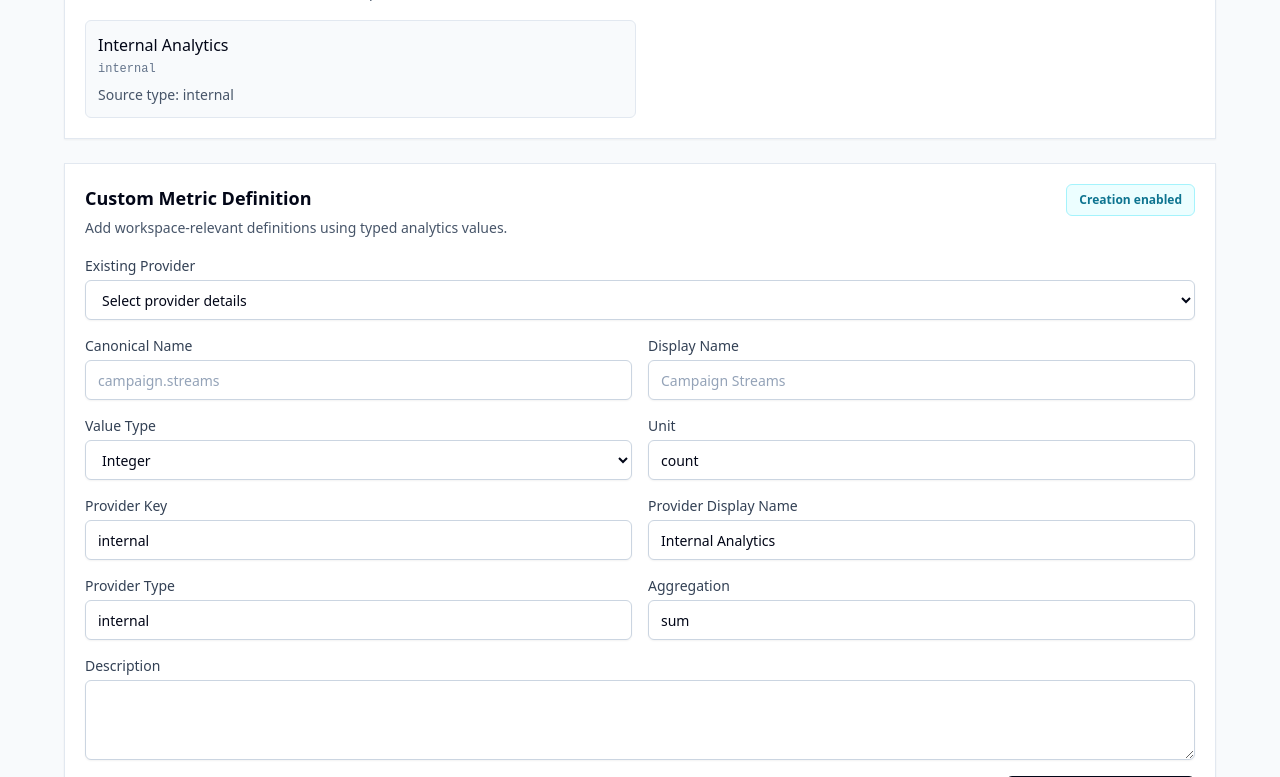
it: AnalyticsConfigurationPanel › validates canonical names before creating
The image size is (1280, 777).
(page scrolled)
Type "Campaign Saves" into the field labelled "Canonical Name".
click(358, 380); type("Campaign Saves")  # box [85,360,632,400]
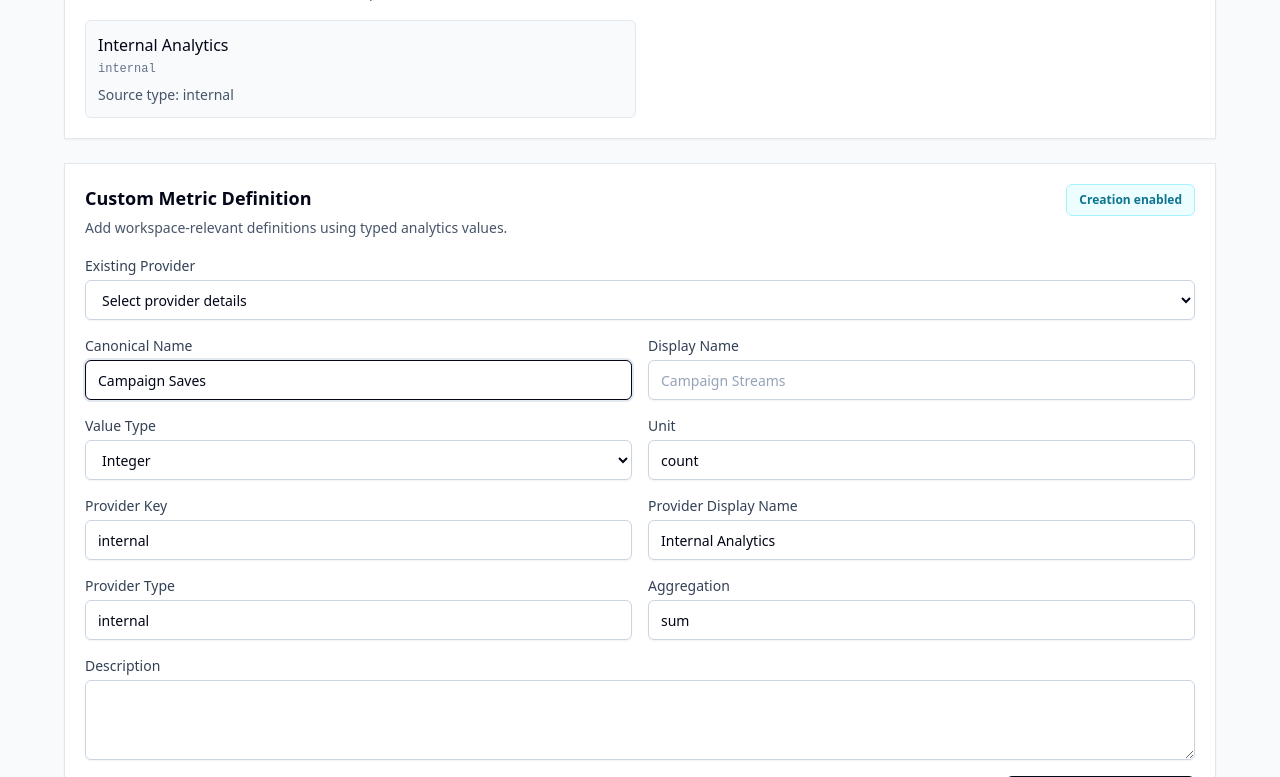
Type "Campaign Saves" into the field labelled "Display Name".
click(922, 380); type("Campaign Saves")  # box [648,360,1195,400]
(page scrolled)
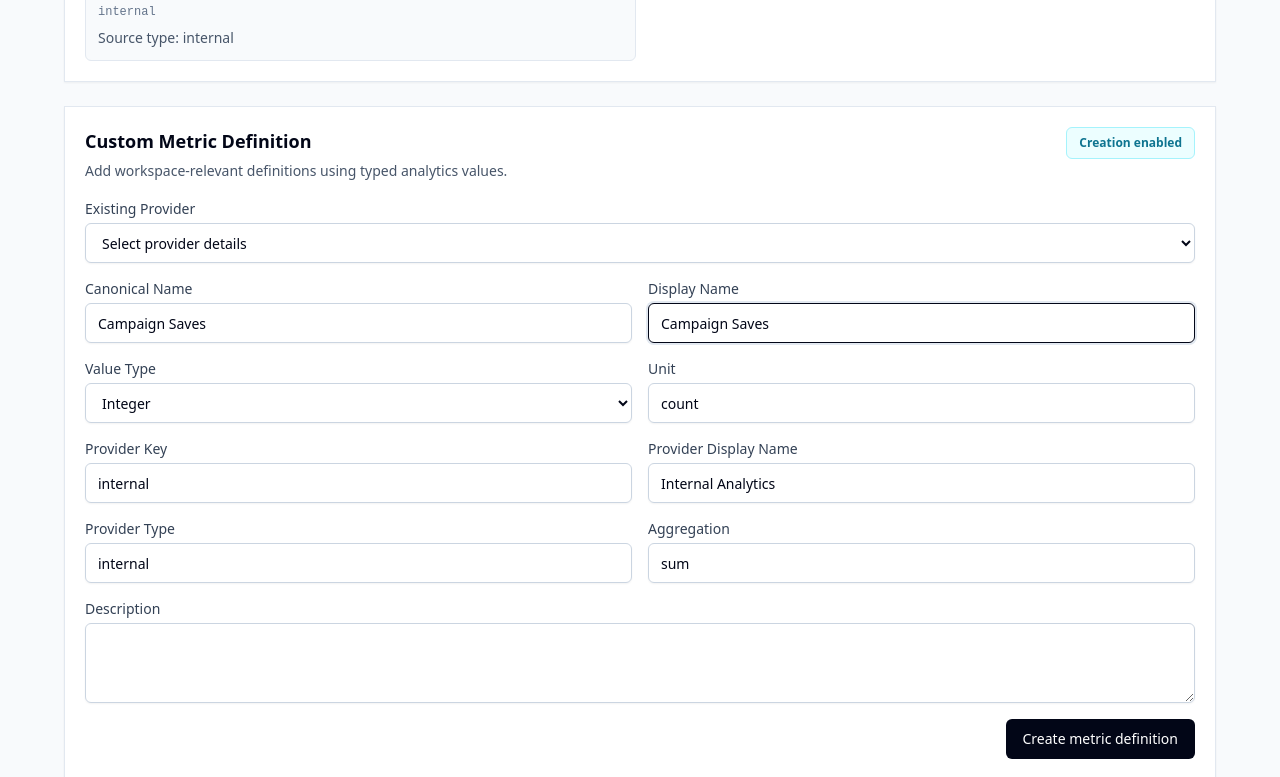
Click the button "Create metric definition".
click(1100, 739)  # box [1006,719,1195,759]
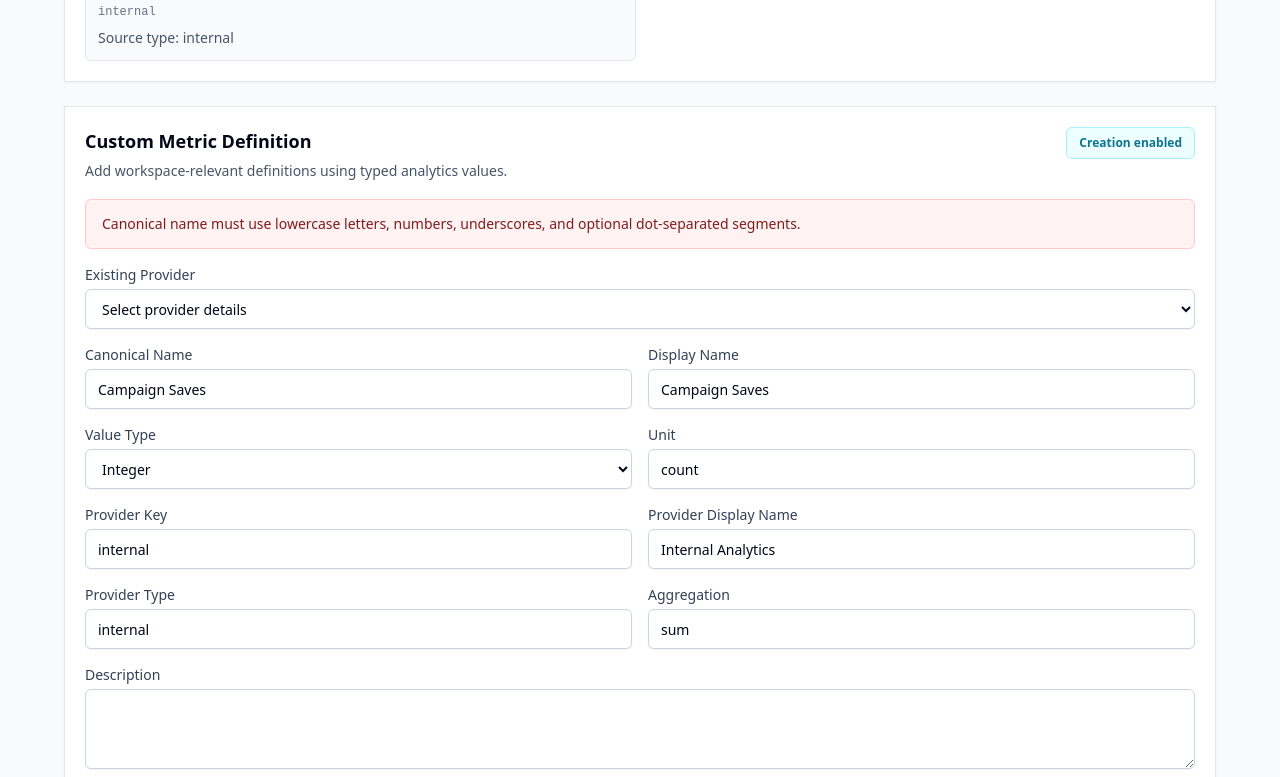
Expected: the text "Canonical name must use lowercase letters, numbers, underscores, and optional dot-separated segments." is shown, [102,214,801,233]
